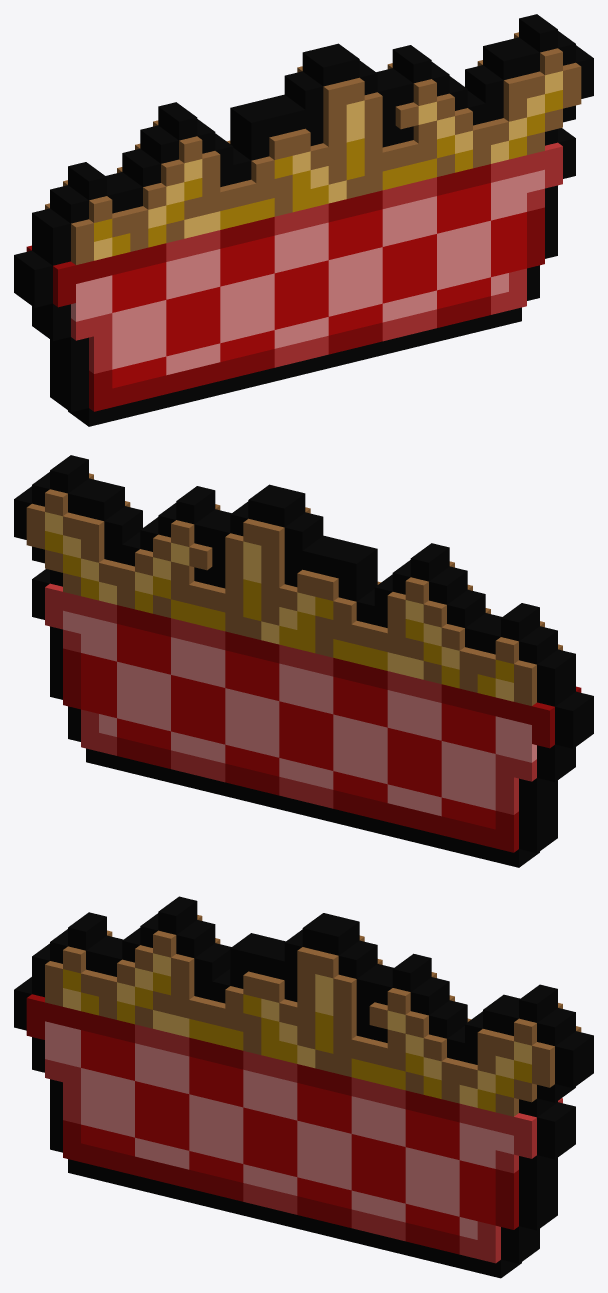
Rendered from fries.glb.
3 views of the same model, one above another, from view 1: azimuth 30°, elevation 25°; view 2: azimuth 150°, elevation 25°; view 3: azimuth 330°, elevation 25° (orthographic).
Parts seen in each view (by area): view 1: generated(Clone); view 2: generated(Clone); view 3: generated(Clone).
Boxes of the visible parts, <box> form: generated(Clone): <box>14,14,593,426</box>; generated(Clone): <box>14,455,593,867</box>; generated(Clone): <box>14,896,593,1278</box>.
Bounding box in the file's own units: 31 × 16 × 3.
